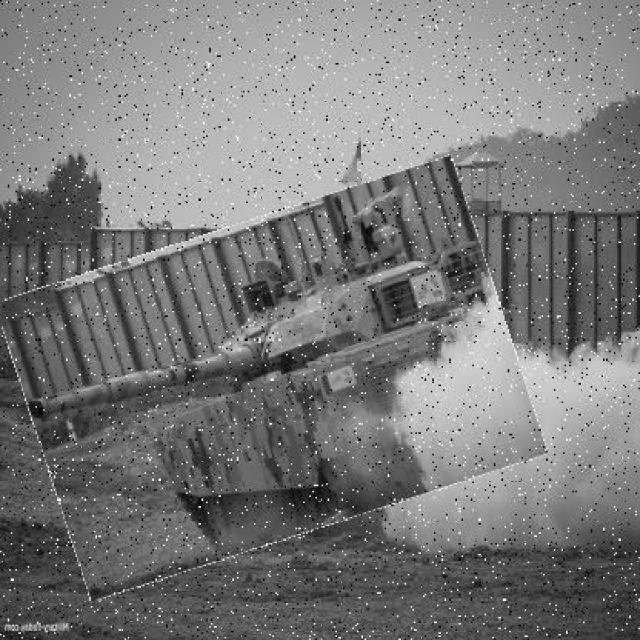Tank: (14, 190, 531, 569)
